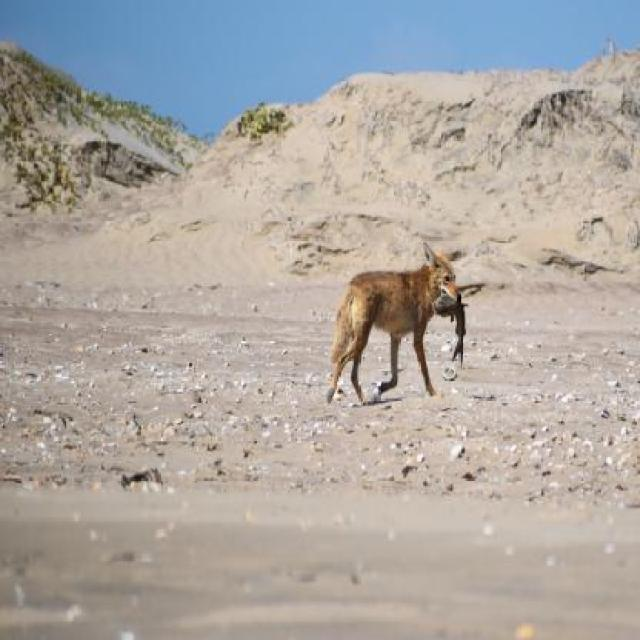Coyote: (325, 243, 461, 405)
